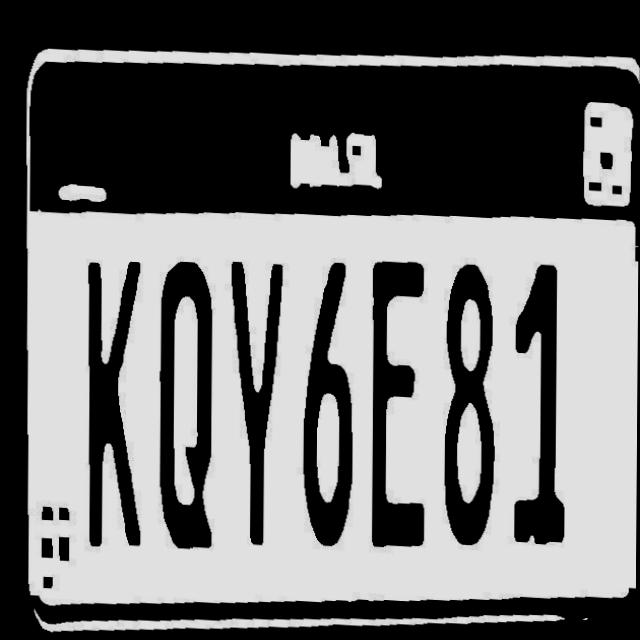1: (506, 247, 578, 542)
6: (297, 251, 367, 555)
8: (439, 253, 509, 547)
e: (366, 243, 437, 552)
k: (72, 240, 146, 566)
q: (155, 232, 220, 551)
y: (222, 233, 290, 546)
